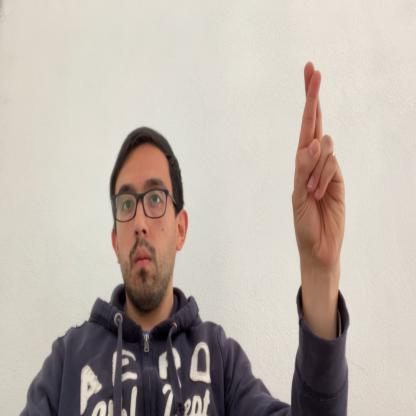R: (291, 61, 347, 275)
